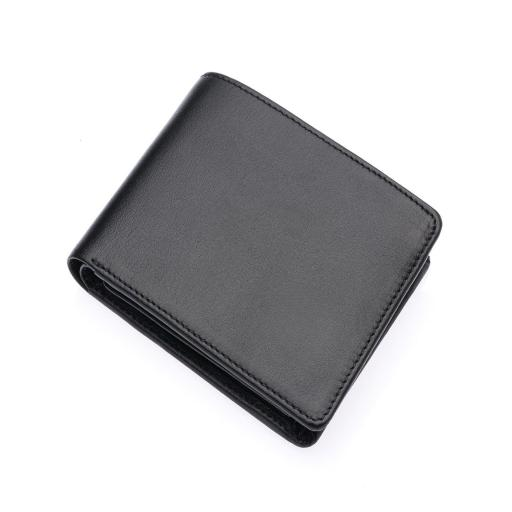cuzdan: (46, 34, 472, 475)
